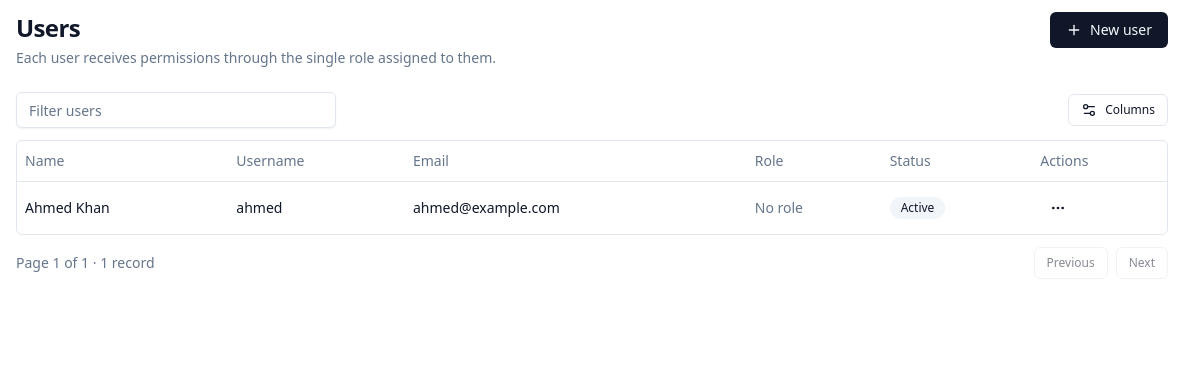
Test: UsersPage — one role per user (§6) › offers "Assign role" when the user has none
Click the button named "Actions for ahmed".
click(1058, 208)  # box [1040,190,1076,226]
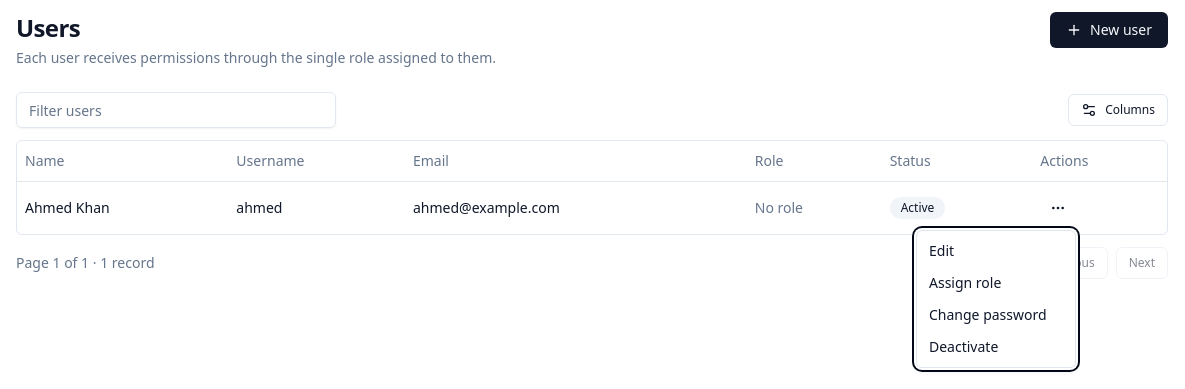
Now the menu item "Assign role" is shown, box [929,273,1001,292]
